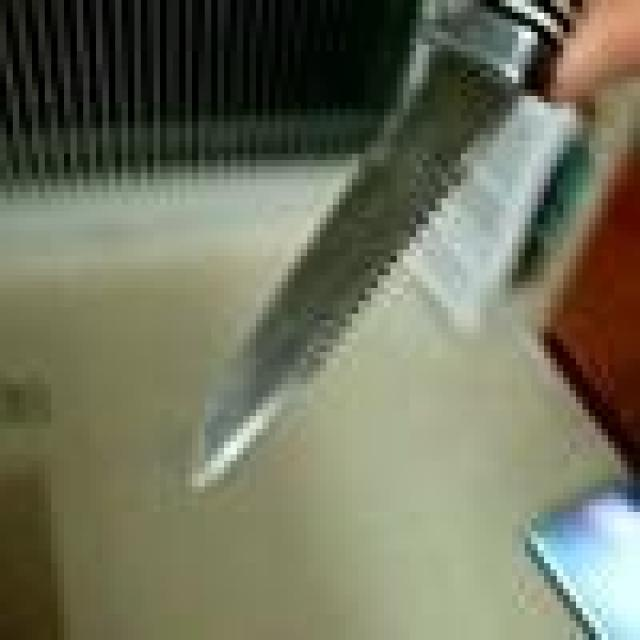senjata_tajam: (190, 0, 581, 494)
